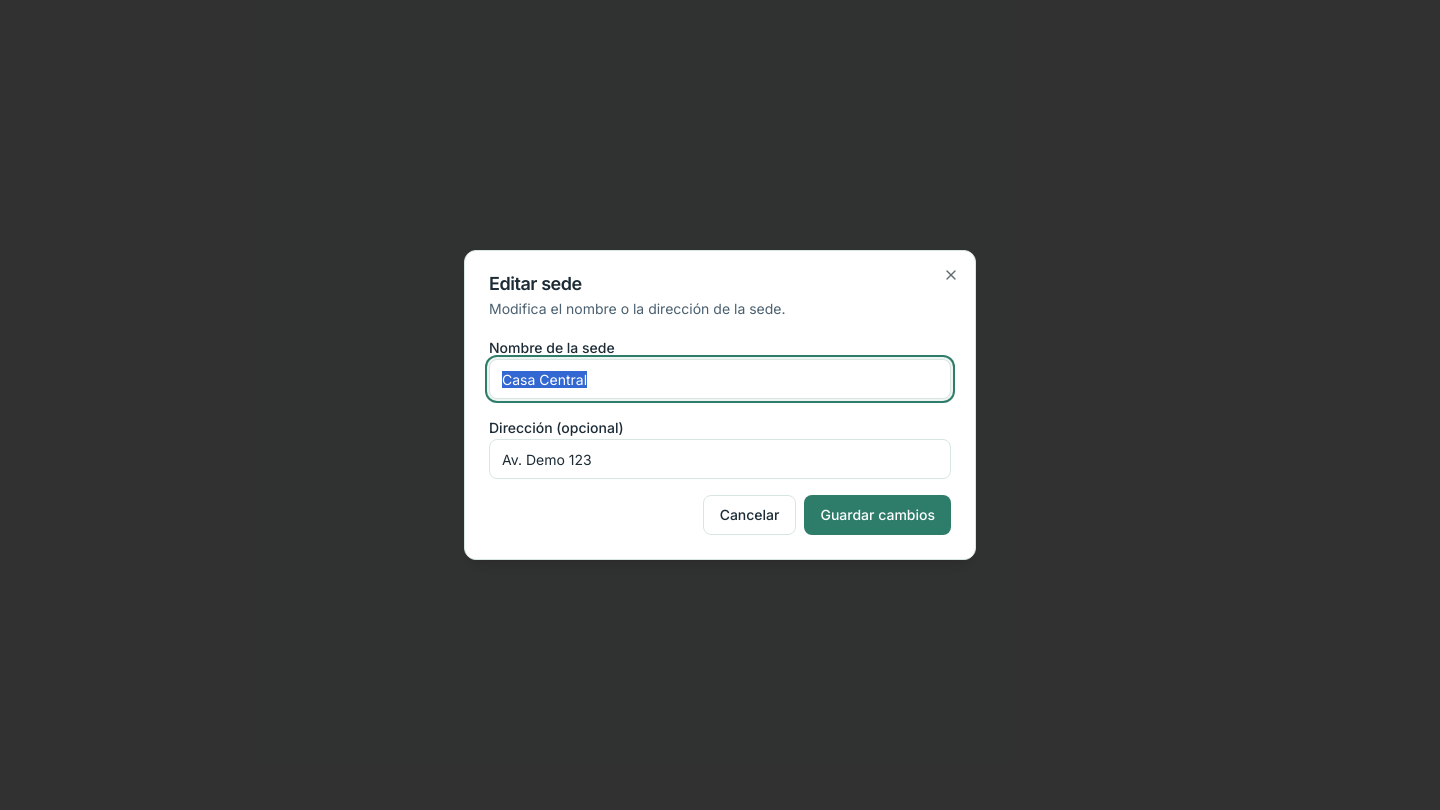
LocationFormDialog - edit mode › shows validation error when both fields are empty in edit
The width and height of the screenshot is (1440, 810).
Clear the field labelled "Nombre de la sede" at (720, 379), box 489,359 -> 951,399
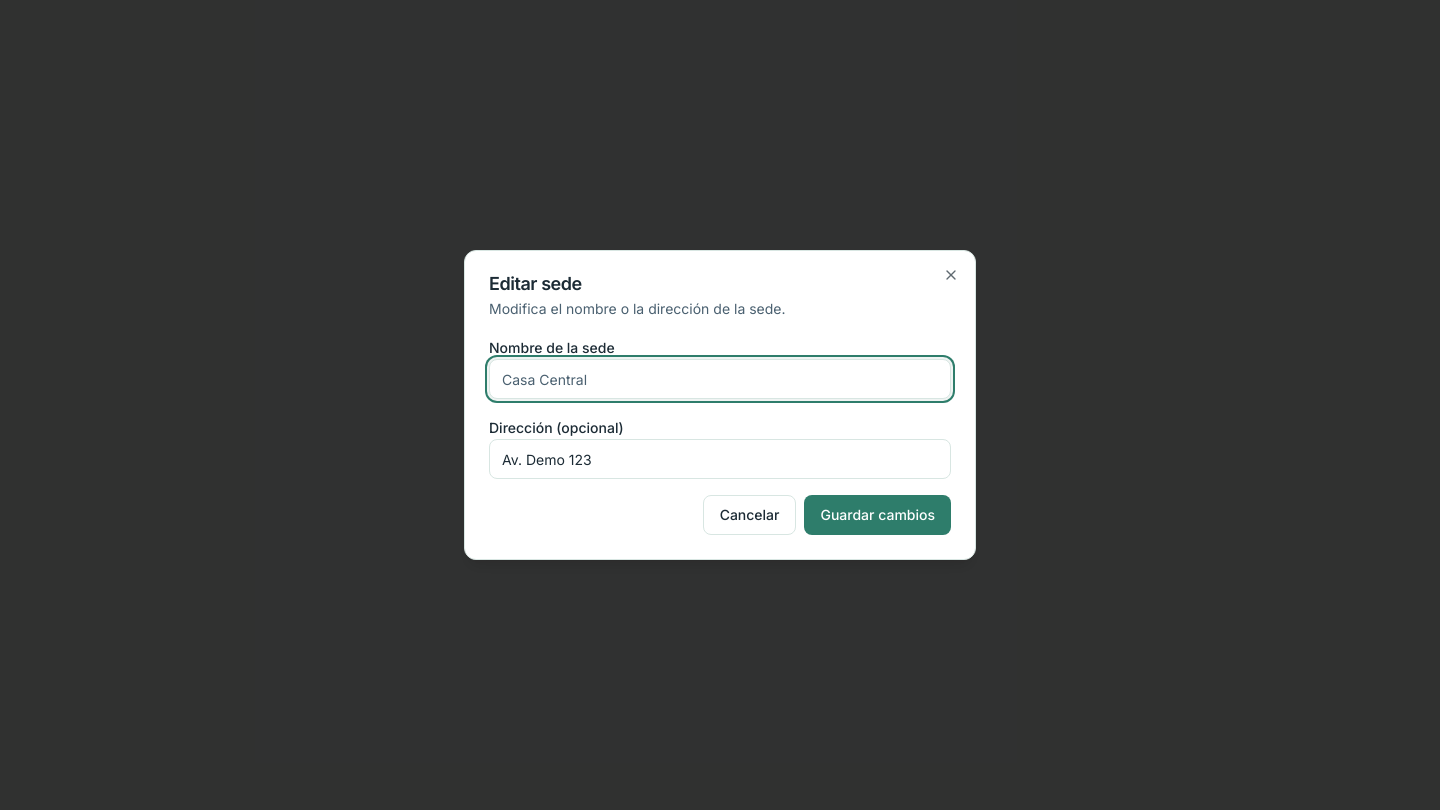
Clear the field labelled "Dirección (opcional)" at (720, 459), box 489,439 -> 951,479
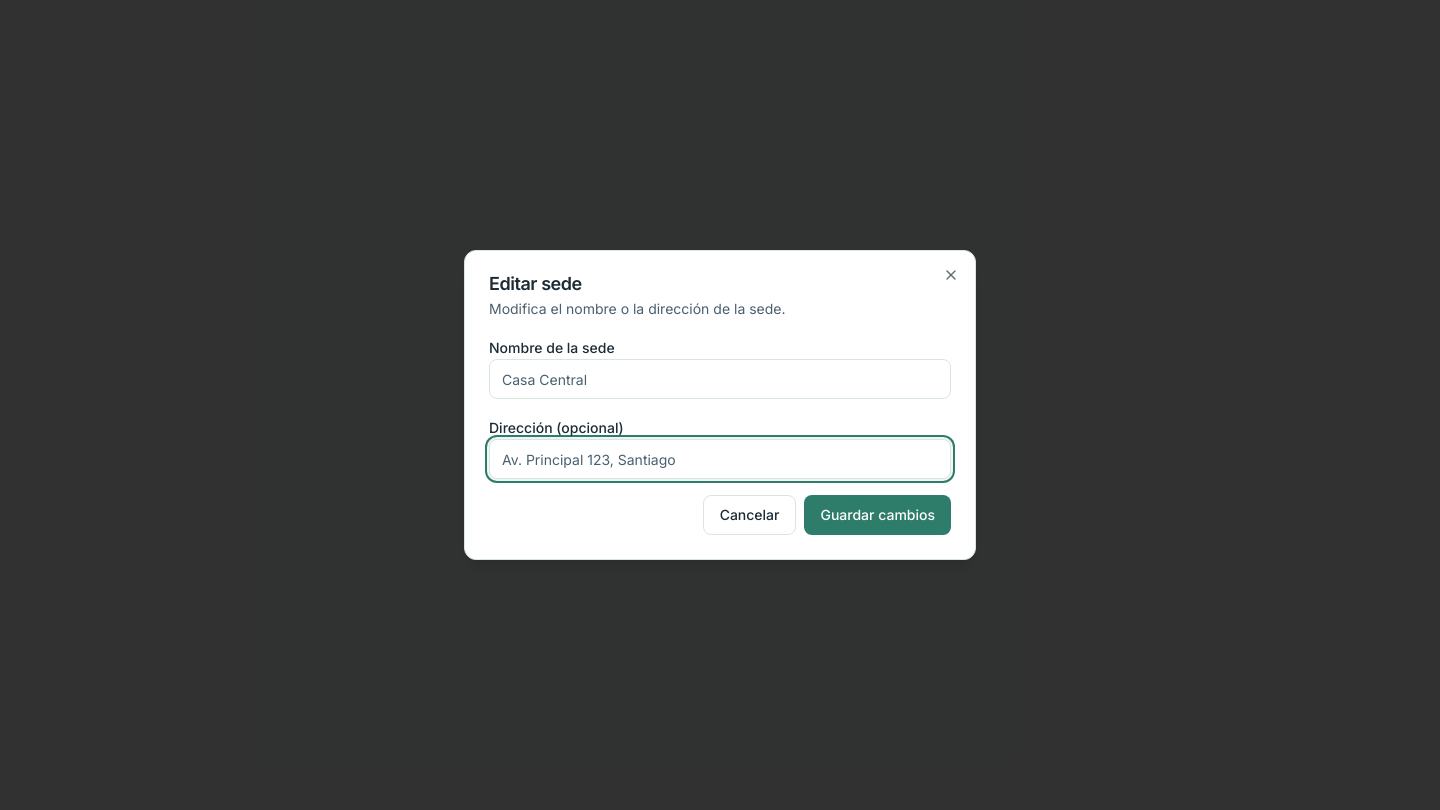
Click the button "Guardar cambios" at (878, 515), box 804,495 -> 951,535
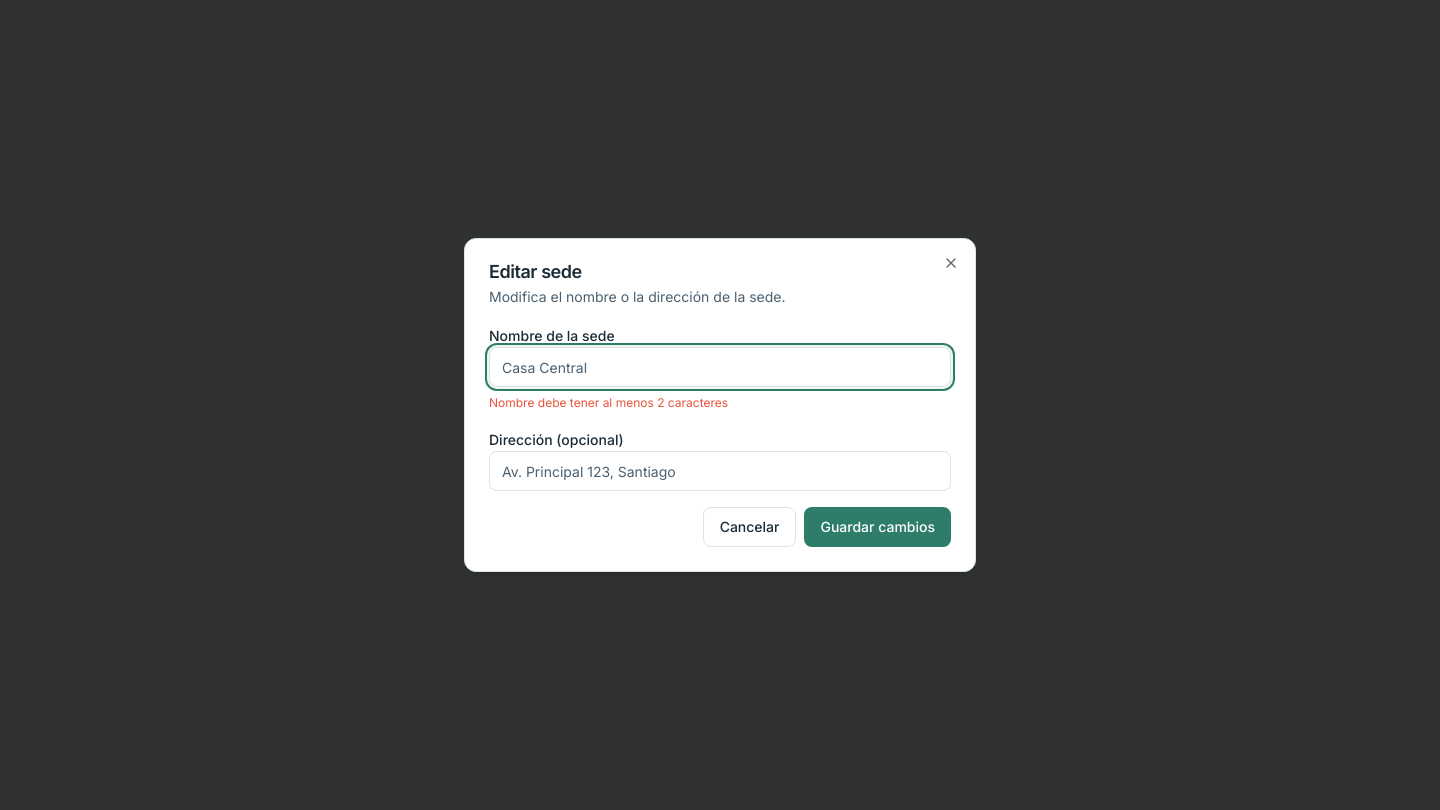
Result: the text "Nombre debe tener al menos 2 caracteres" is shown at 489,395 -> 728,410
